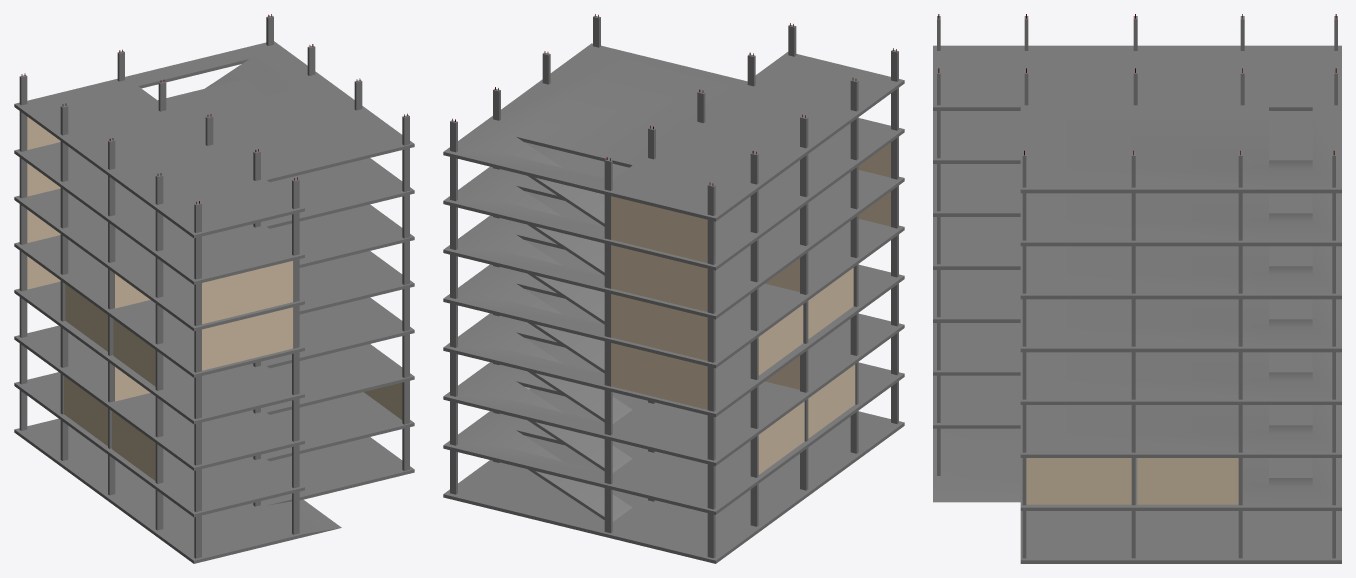
File: ConstructionBuilding.fbx
3 renders of one model, left to right at view 1: azimuth 30°, elevation 25°; view 2: azimuth 150°, elevation 25°; view 3: azimuth 270°, elevation 25°, orthographic. The views are drawn at different scales.
Visible parts, largest first — view 1: Floor, Drywall.007, Drywall.006, Pillar.004, Pillar.002, Pillar.010, Pillar.019, Pillar.001, Pillar.006, Pillar.005, Drywall.002, Drywall.001 (+9 smaller); view 2: Floor, Drywall.014, Drywall.013, Drywall.015, Drywall.016, Pillar.004, Pillar.007, Pillar.006, Pillar.011, Pillar.005, Pillar.019, Pillar.002 (+8 smaller); view 3: Floor, Drywall.005, Drywall.012, Pillar.012, Pillar.013, Pillar.010, Pillar.001, Pillar.011.
Part boxes in pixels (bbox=[...]): Floor: bbox=[14, 41, 414, 563]; Drywall.007: bbox=[202, 307, 293, 370]; Drywall.006: bbox=[202, 261, 293, 324]; Pillar.004: bbox=[19, 73, 27, 430]; Pillar.002: bbox=[155, 173, 163, 530]; Pillar.010: bbox=[402, 113, 409, 470]; Pillar.019: bbox=[194, 201, 201, 558]; Pillar.001: bbox=[292, 177, 299, 534]; Pillar.006: bbox=[60, 103, 68, 460]; Pillar.005: bbox=[108, 138, 115, 495]; Drywall.002: bbox=[64, 376, 107, 445]; Drywall.001: bbox=[112, 411, 155, 480]; Floor: bbox=[443, 43, 904, 563]; Drywall.014: bbox=[611, 294, 707, 360]; Drywall.013: bbox=[611, 343, 707, 409]; Drywall.015: bbox=[611, 245, 707, 311]; Drywall.016: bbox=[611, 196, 707, 262]; Pillar.004: bbox=[707, 182, 715, 558]; Pillar.007: bbox=[604, 157, 612, 533]; Pillar.006: bbox=[750, 151, 758, 526]; Pillar.011: bbox=[450, 118, 457, 494]; Pillar.005: bbox=[800, 114, 808, 490]; Pillar.019: bbox=[891, 48, 898, 423]; Pillar.002: bbox=[850, 78, 858, 453]; Floor: bbox=[933, 45, 1341, 563]; Drywall.005: bbox=[1026, 458, 1131, 504]; Drywall.012: bbox=[1137, 458, 1238, 504]; Pillar.012: bbox=[1131, 150, 1135, 558]; Pillar.013: bbox=[1238, 150, 1242, 558]; Pillar.010: bbox=[1022, 150, 1026, 558]; Pillar.001: bbox=[937, 68, 940, 475]; Pillar.011: bbox=[1332, 150, 1335, 558].
Bounding box in the file's own units: 1750 × 2315 × 2100.
